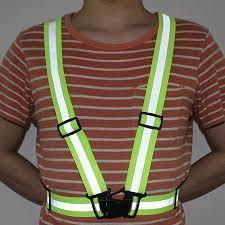Vest: (36, 12, 184, 213)
